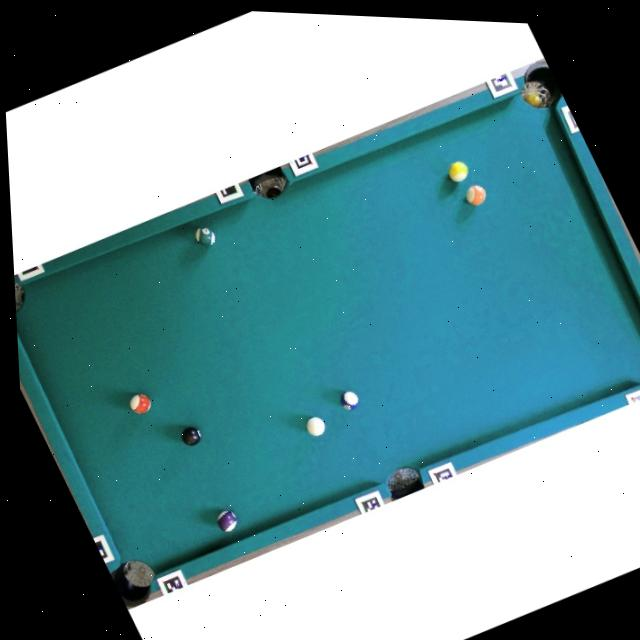cue ball: (302, 411, 330, 441)
other: (212, 505, 244, 537), (125, 388, 156, 419), (444, 157, 473, 186), (462, 181, 491, 209), (178, 422, 205, 450), (191, 222, 218, 250), (336, 388, 362, 414)
